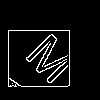M: (23, 24, 86, 86)
